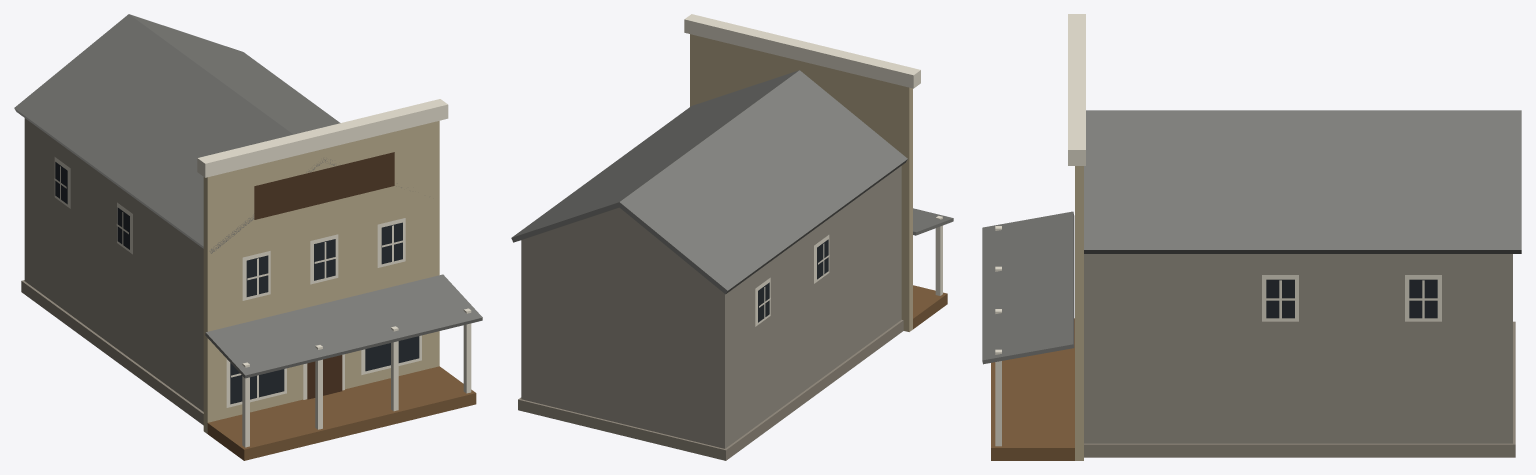
File: store.glb
3 renders of one model, left to right at view 1: azimuth 30°, elevation 25°; view 2: azimuth 150°, elevation 25°; view 3: azimuth 270°, elevation 25°, orthographic. The views are drawn at different scales.
Parts seen in each view (by area): view 1: store; view 2: store; view 3: store.
Boxes of the visible parts, x1,y1,x2,y2 form: store: [14, 14, 482, 460]; store: [511, 14, 953, 460]; store: [982, 14, 1521, 460].
Bounding box in the file's own units: 9 × 9.7 × 15.1.
